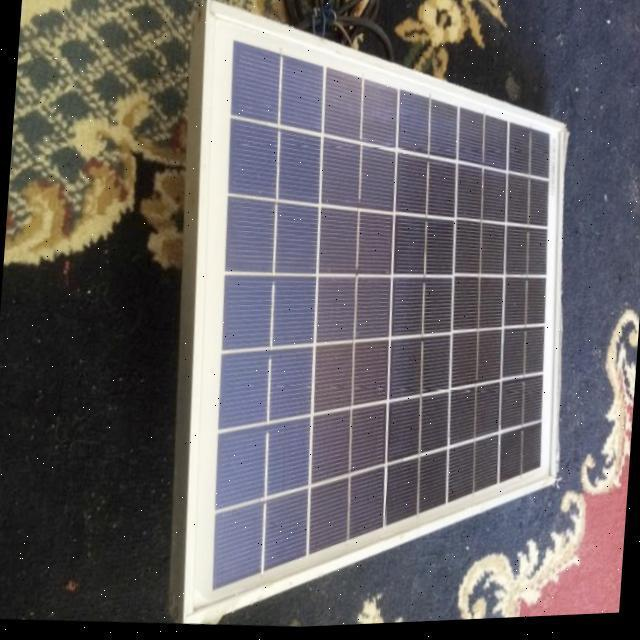Normal Solar Panel: (166, 0, 584, 634)
